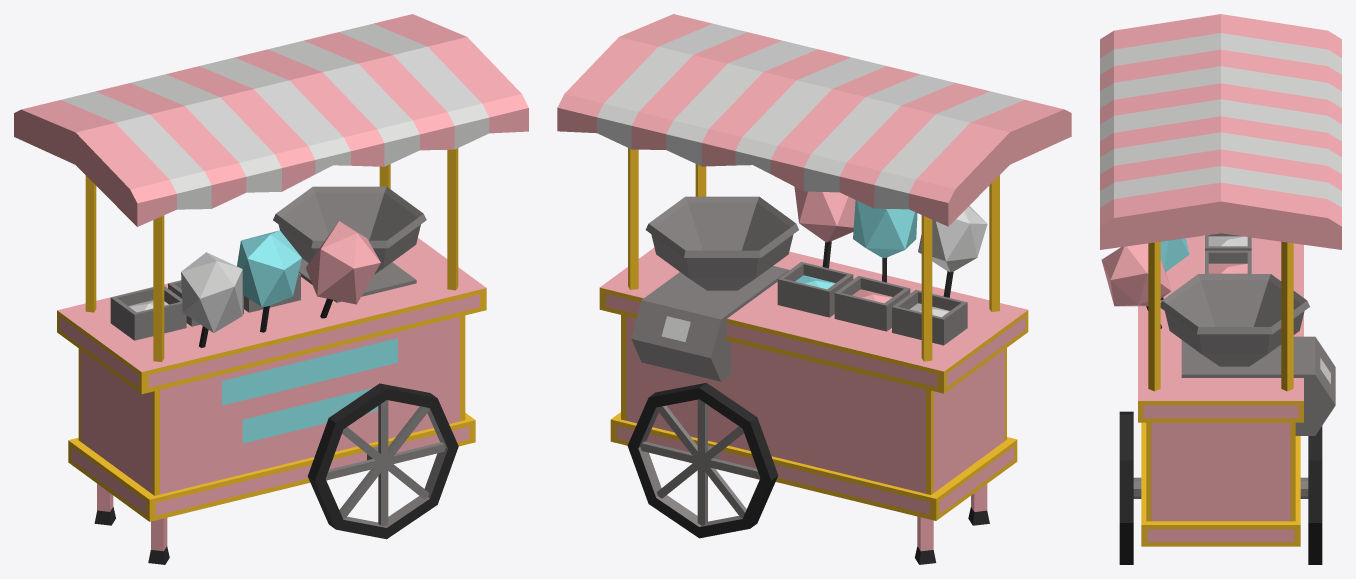
The model's file is amusement-park-stand-cotton-big.glb.
3 views of the same model, side by side, from view 1: azimuth 30°, elevation 25°; view 2: azimuth 150°, elevation 25°; view 3: azimuth 270°, elevation 25° (orthographic).
Parts seen in each view (by area): view 1: stand-cotton-big; view 2: stand-cotton-big; view 3: stand-cotton-big.
Part boxes in pixels (bbox=[...]): stand-cotton-big: bbox=[14, 14, 528, 564]; stand-cotton-big: bbox=[557, 14, 1071, 564]; stand-cotton-big: bbox=[1100, 14, 1341, 564].
Bounding box in the file's own units: 2.06 × 2.17 × 1.12.
